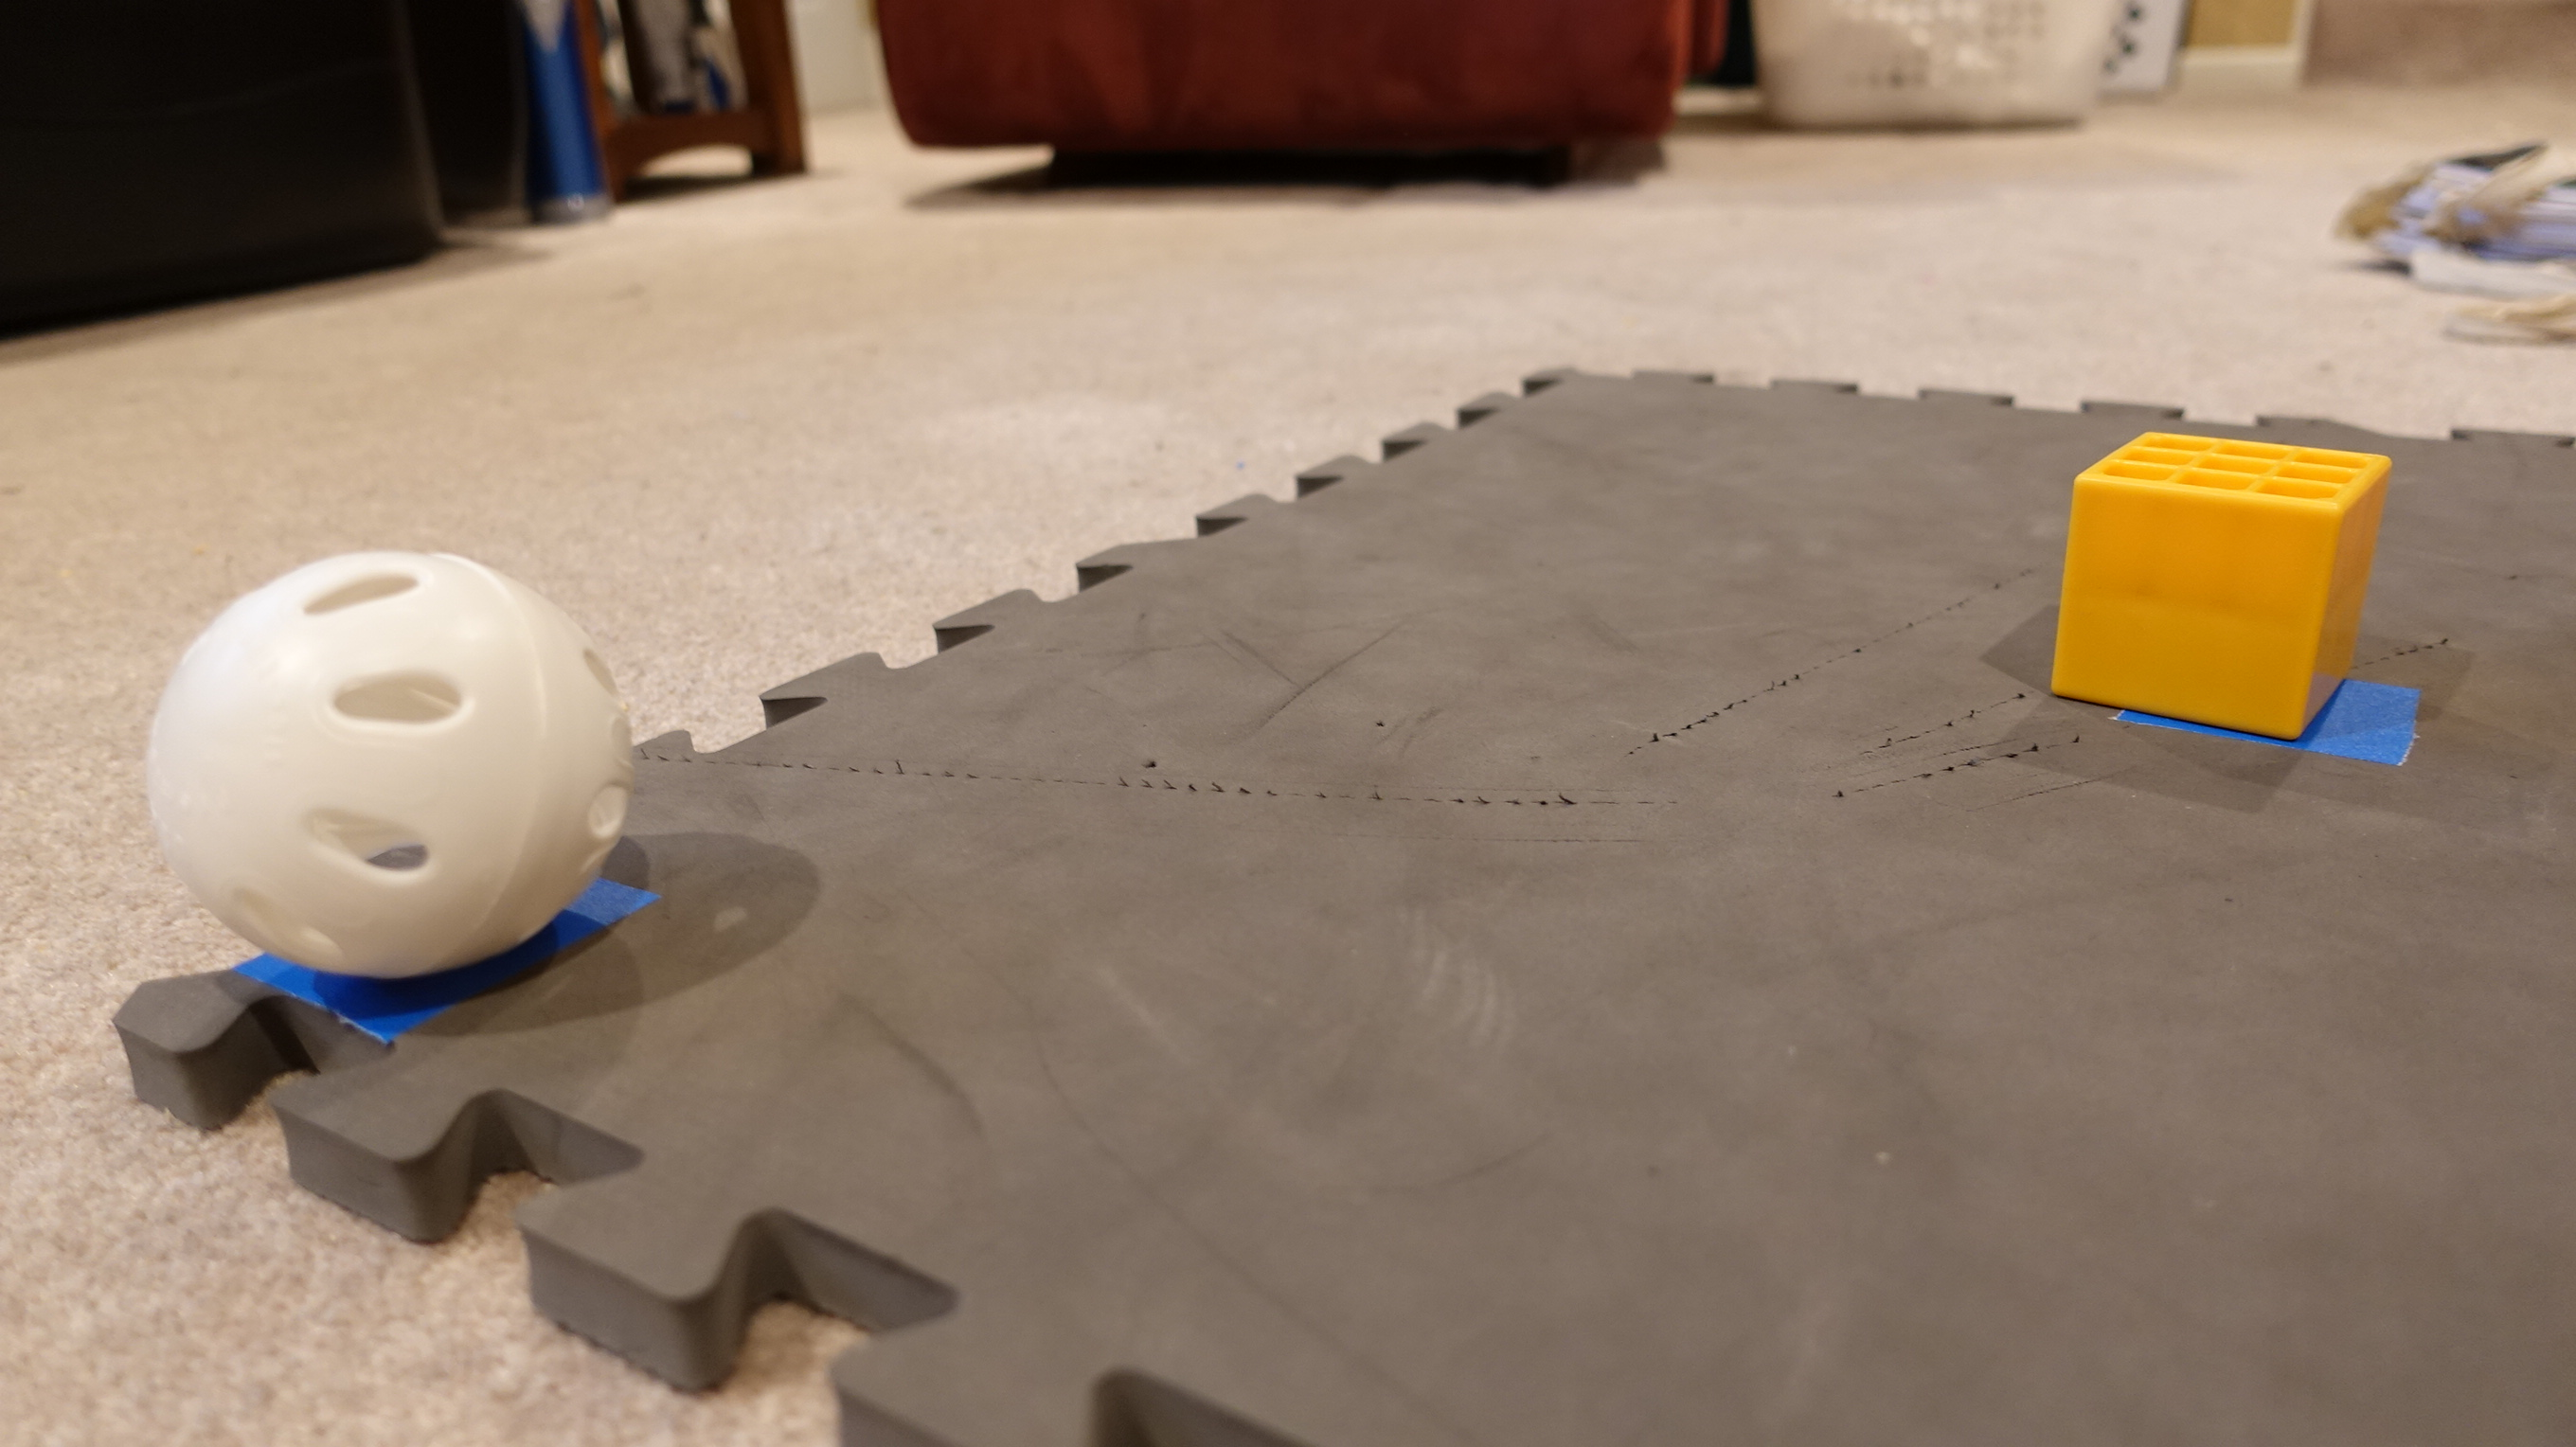gold: (2036, 430, 2399, 745)
silver: (149, 557, 625, 984)
